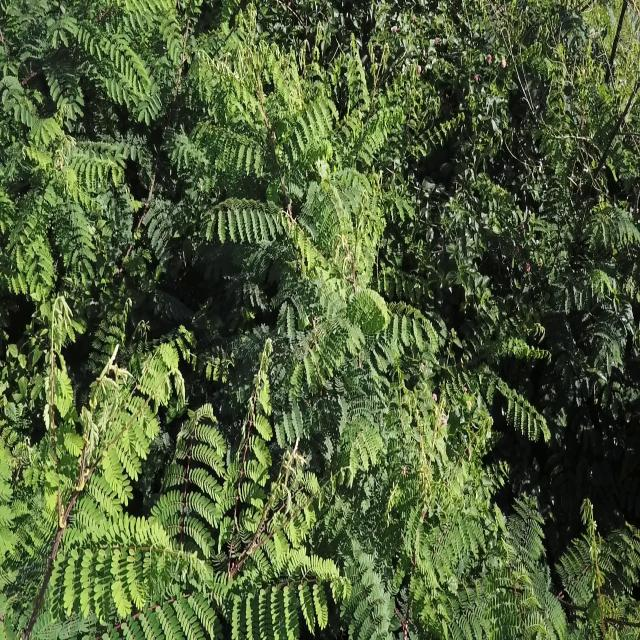Mysore-Thorn-Weed: (0, 320, 195, 640), (0, 0, 195, 310), (206, 44, 403, 318), (195, 336, 330, 634), (350, 362, 493, 640), (495, 496, 634, 640)
